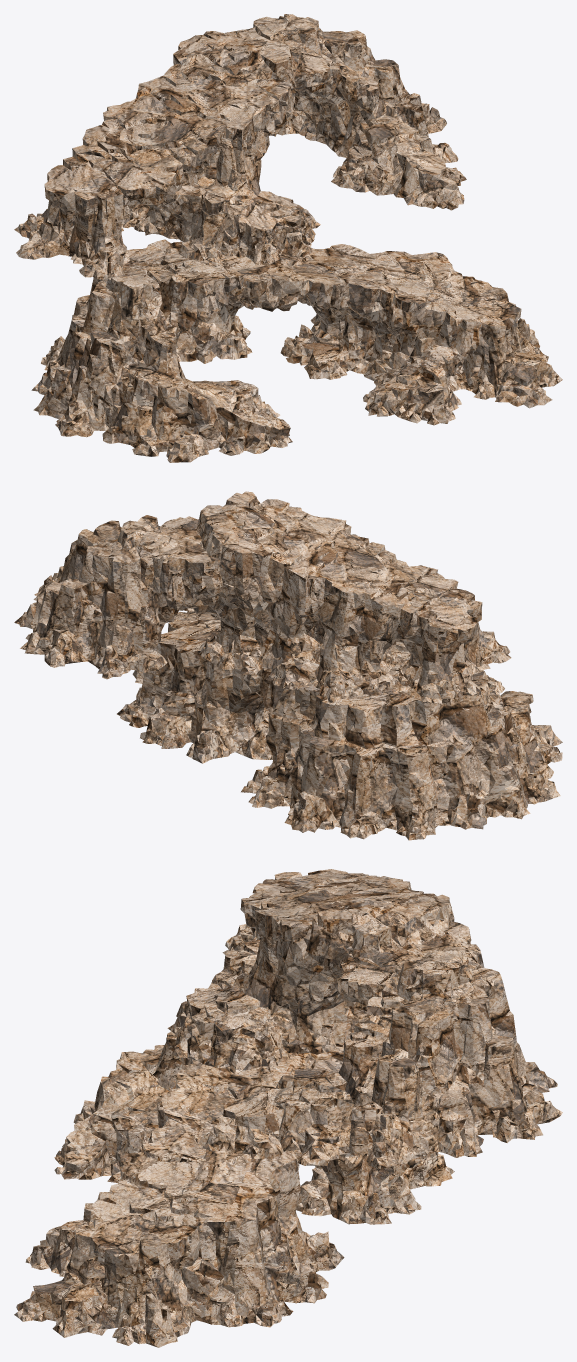
The model's file is Snapper Caves Supporting Rocks.fbx.
The picture shows the model from 3 angles, top to bottom: view 1: azimuth 30°, elevation 25°; view 2: azimuth 150°, elevation 25°; view 3: azimuth 270°, elevation 25°; orthographic projection. The views are drawn at different scales.
Visible parts, largest first — view 1: world.001; view 2: world.001; view 3: world.001.
Boxes of the visible parts, left/top/right/bottom form: world.001: left=14, top=14, right=562, bottom=462; world.001: left=14, top=491, right=562, bottom=840; world.001: left=14, top=869, right=562, bottom=1347.
Size of the model in its own units: 199 by 117 by 177.
Materials: 1 (1 with a texture image).
